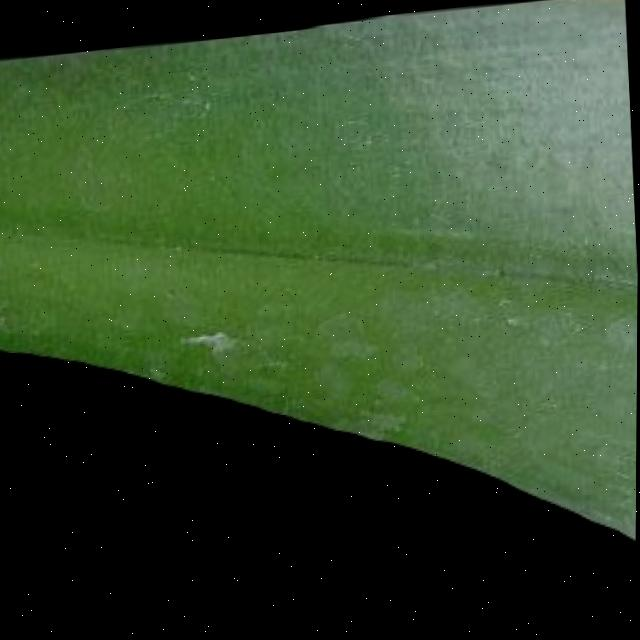mite: (0, 281, 638, 639), (0, 67, 25, 532), (0, 345, 17, 515), (0, 109, 11, 337), (0, 307, 10, 334)
